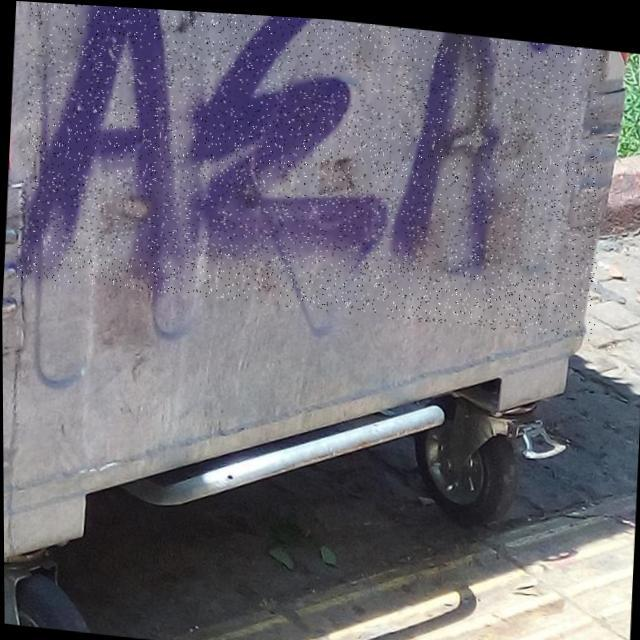-: (15, 1, 609, 334)
